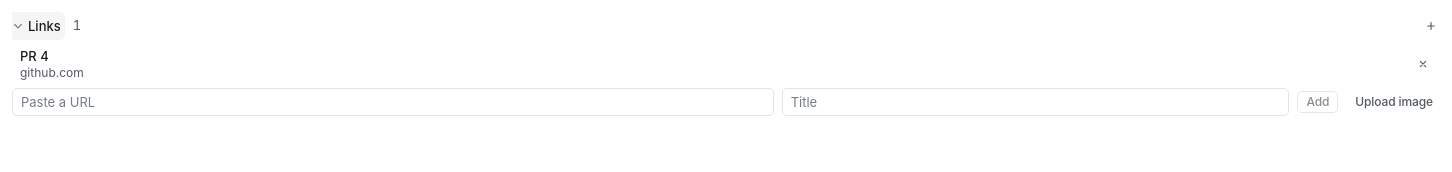
it: Links, when the server will not take one › says why, and puts the URL back in the box
Type "not a url" into the field with placeholder "Paste a URL" at (393, 102), box [21,89,765,115]
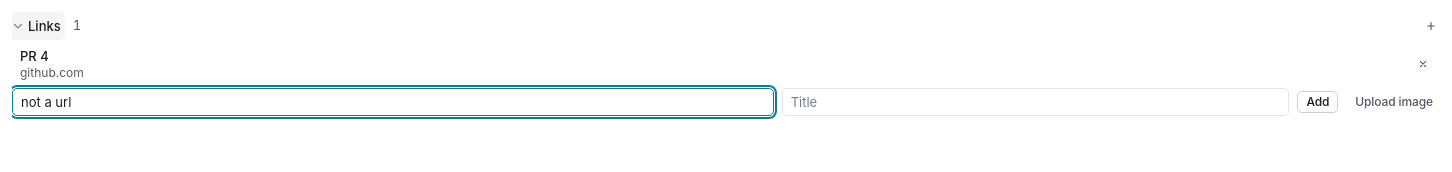
Click the button "Add" at (1318, 102), box [1297,91,1338,113]
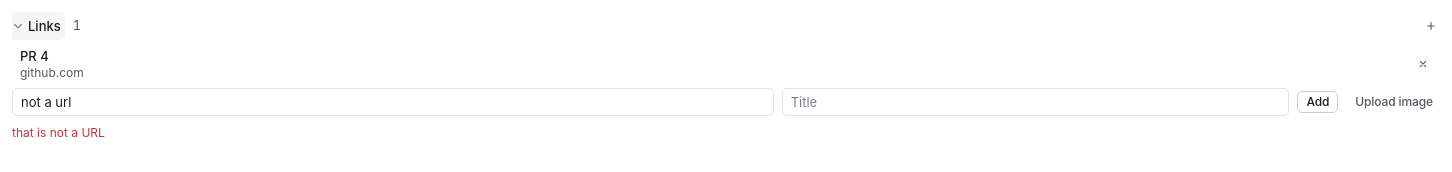
Expected: the message reads "that is not a URL", [12,125,105,140]
